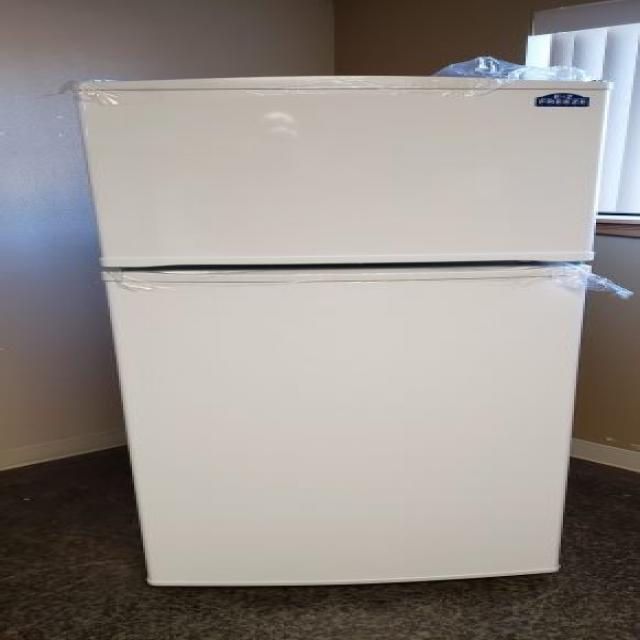refrigerator: (108, 48, 606, 610)
